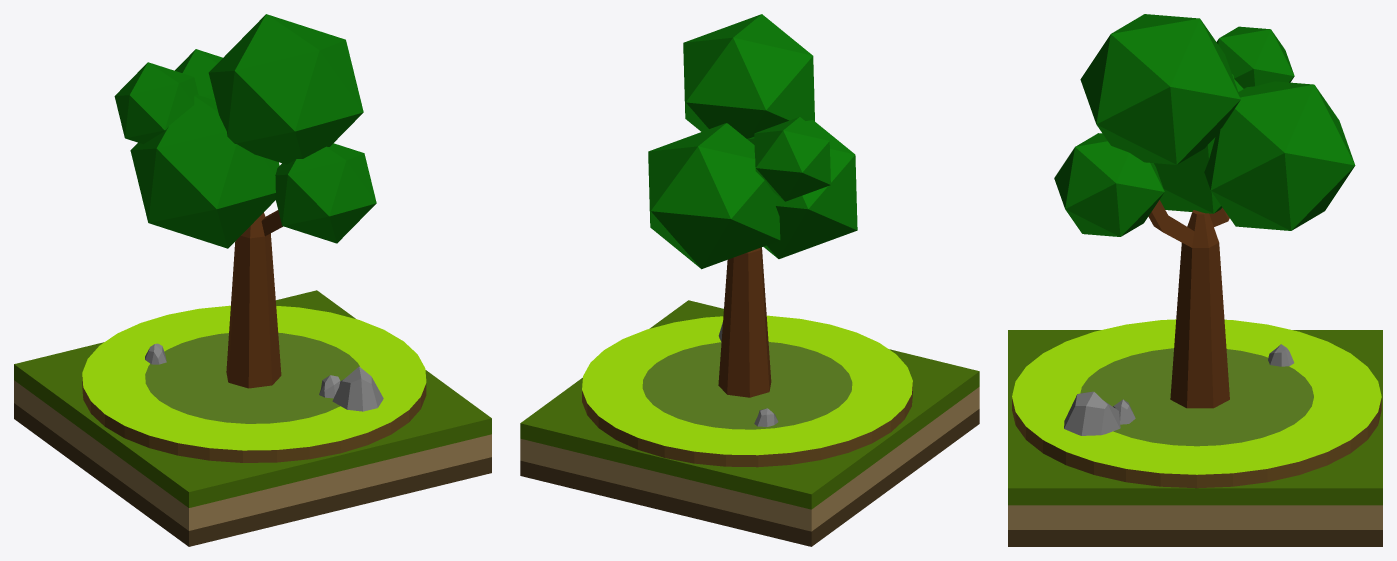
File: tree.fbx
The picture shows the model from 3 angles, left to right: view 1: azimuth 30°, elevation 25°; view 2: azimuth 150°, elevation 25°; view 3: azimuth 270°, elevation 25°; orthographic projection. The views are drawn at different scales.
Parts seen in each view (by area): view 1: Circle.004, tree ground, Icosphere.006, Icosphere.008, Circle.003, Icosphere.005, Icosphere.009, Plane.014, Icosphere.007; view 2: Circle.004, tree ground, Icosphere.007, Icosphere.006, Circle.003, Icosphere.008, Icosphere.009; view 3: Circle.004, tree ground, Icosphere.006, Icosphere.007, Circle.003, Icosphere.005, Icosphere.009, Icosphere.008, Plane.014.
Part boxes in pixels (x1,y1,x2,y2): Circle.004: [82, 305, 426, 462]; tree ground: [14, 290, 491, 546]; Icosphere.006: [208, 14, 363, 164]; Icosphere.008: [130, 94, 279, 248]; Circle.003: [226, 210, 282, 388]; Icosphere.005: [275, 143, 376, 243]; Icosphere.009: [114, 62, 198, 144]; Plane.014: [332, 366, 383, 411]; Icosphere.007: [175, 49, 222, 100]; Circle.004: [582, 315, 912, 467]; tree ground: [520, 300, 979, 546]; Icosphere.007: [648, 123, 780, 269]; Icosphere.006: [683, 14, 814, 138]; Circle.003: [718, 247, 771, 397]; Icosphere.008: [747, 120, 857, 258]; Icosphere.009: [754, 117, 830, 201]; Circle.004: [1012, 319, 1381, 488]; tree ground: [1008, 330, 1382, 546]; Icosphere.006: [1080, 14, 1240, 164]; Icosphere.007: [1204, 81, 1355, 230]; Circle.003: [1148, 200, 1229, 408]; Icosphere.005: [1054, 133, 1164, 236]; Icosphere.009: [1216, 26, 1294, 88]; Icosphere.008: [1154, 74, 1243, 213]; Plane.014: [1064, 391, 1120, 435].
Bounding box in the file's own units: 194 × 262 × 194.
